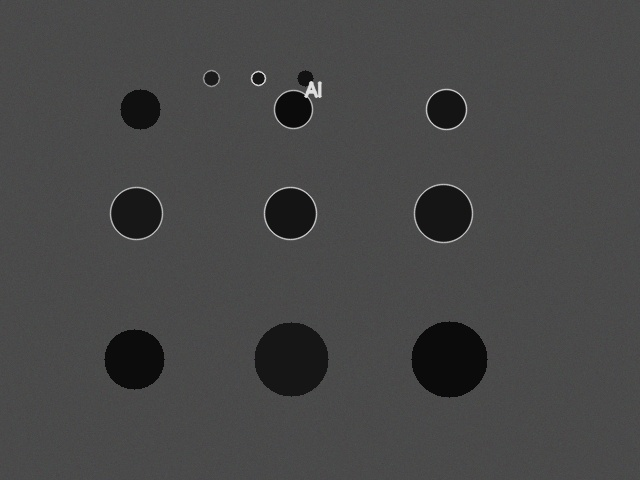hole: (411, 321, 487, 397), (254, 322, 328, 396), (104, 329, 164, 389), (414, 184, 472, 242), (110, 187, 162, 239), (264, 187, 316, 239), (120, 89, 160, 129), (426, 89, 466, 129), (274, 90, 312, 128), (203, 70, 219, 86), (297, 70, 313, 86), (251, 71, 265, 85)
